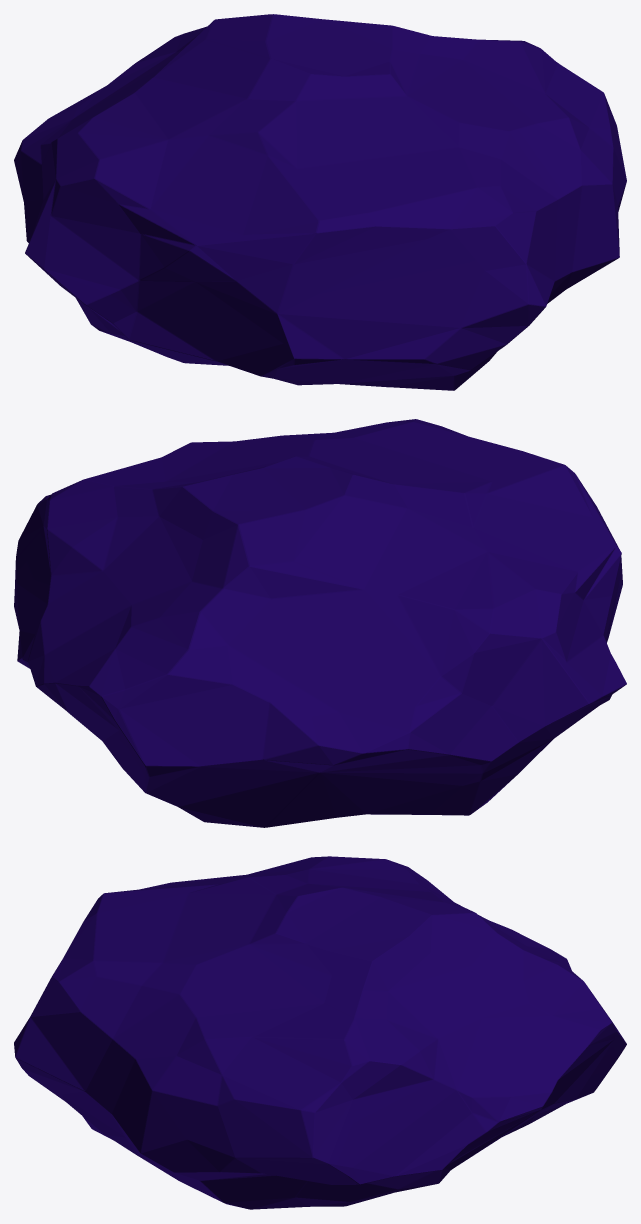
The model's file is java.glb.
3 renders of one model, top to bottom at view 1: azimuth 30°, elevation 25°; view 2: azimuth 150°, elevation 25°; view 3: azimuth 270°, elevation 25°, orthographic. The views are drawn at different scales.
Visible parts, largest first — view 1: Cube.007; view 2: Cube.007; view 3: Cube.007.
Part boxes in pixels (<box>): Cube.007: <box>14,14,626,390</box>; Cube.007: <box>14,419,626,827</box>; Cube.007: <box>14,856,626,1209</box>.
Bounding box in the file's own units: 2 × 0.9342 × 2.04.
